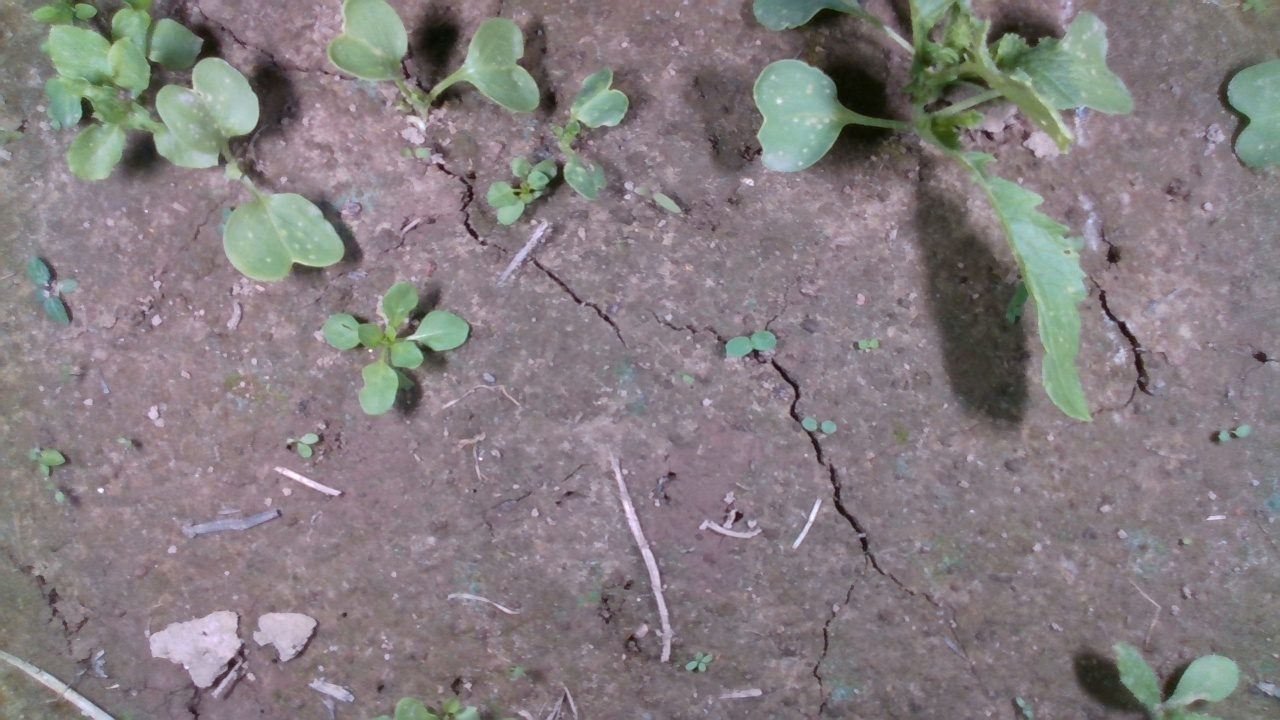weed: (719, 327, 778, 363), (632, 185, 683, 214), (281, 428, 323, 460), (27, 445, 67, 477), (801, 414, 839, 435), (683, 649, 716, 673), (1214, 424, 1253, 443), (400, 144, 437, 161), (853, 337, 883, 351), (50, 488, 67, 508)
